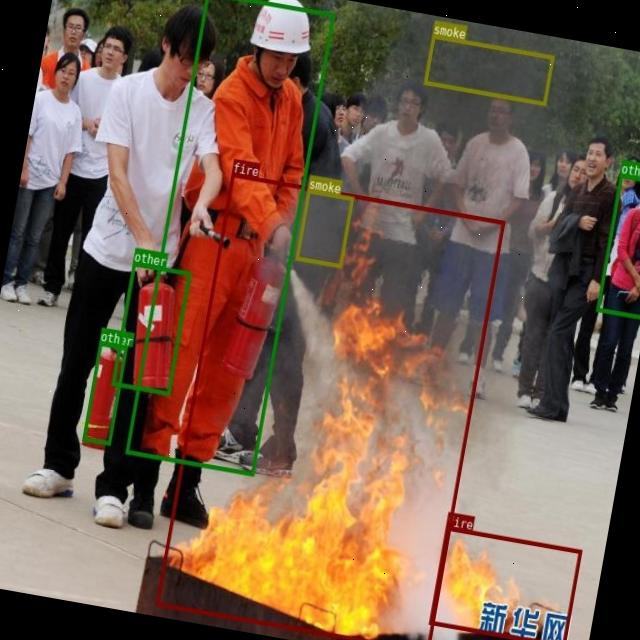fire: (155, 172, 504, 640), (427, 524, 581, 640)
smoke: (422, 34, 554, 105), (294, 188, 353, 266)
